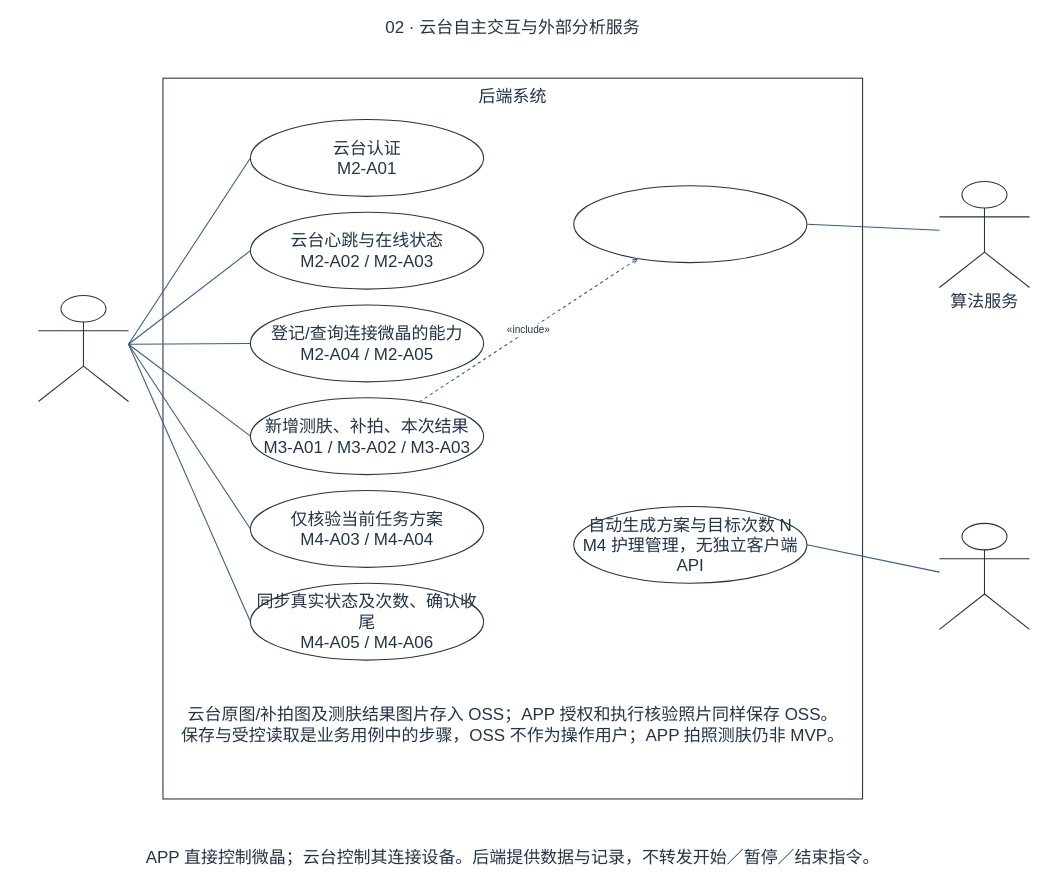
Image size: 1039x889. Some labels were removed from this diagram. The box of each missing label's shape, as (x1, y1, x2, y2) in pixels:
云台设备: (38, 295, 129, 402)
原图读取与测肤分析 结果图片归档 OSS: (573, 185, 807, 263)
大模型服务: (939, 523, 1030, 630)
